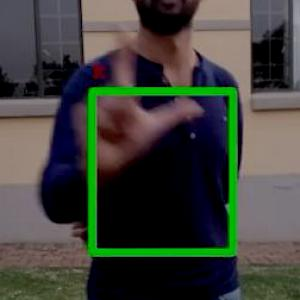land_hand: (77, 23, 210, 192)
